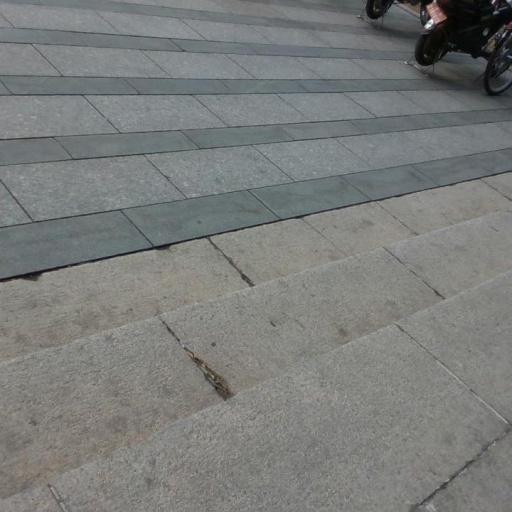stairs: (0, 212, 511, 511)
